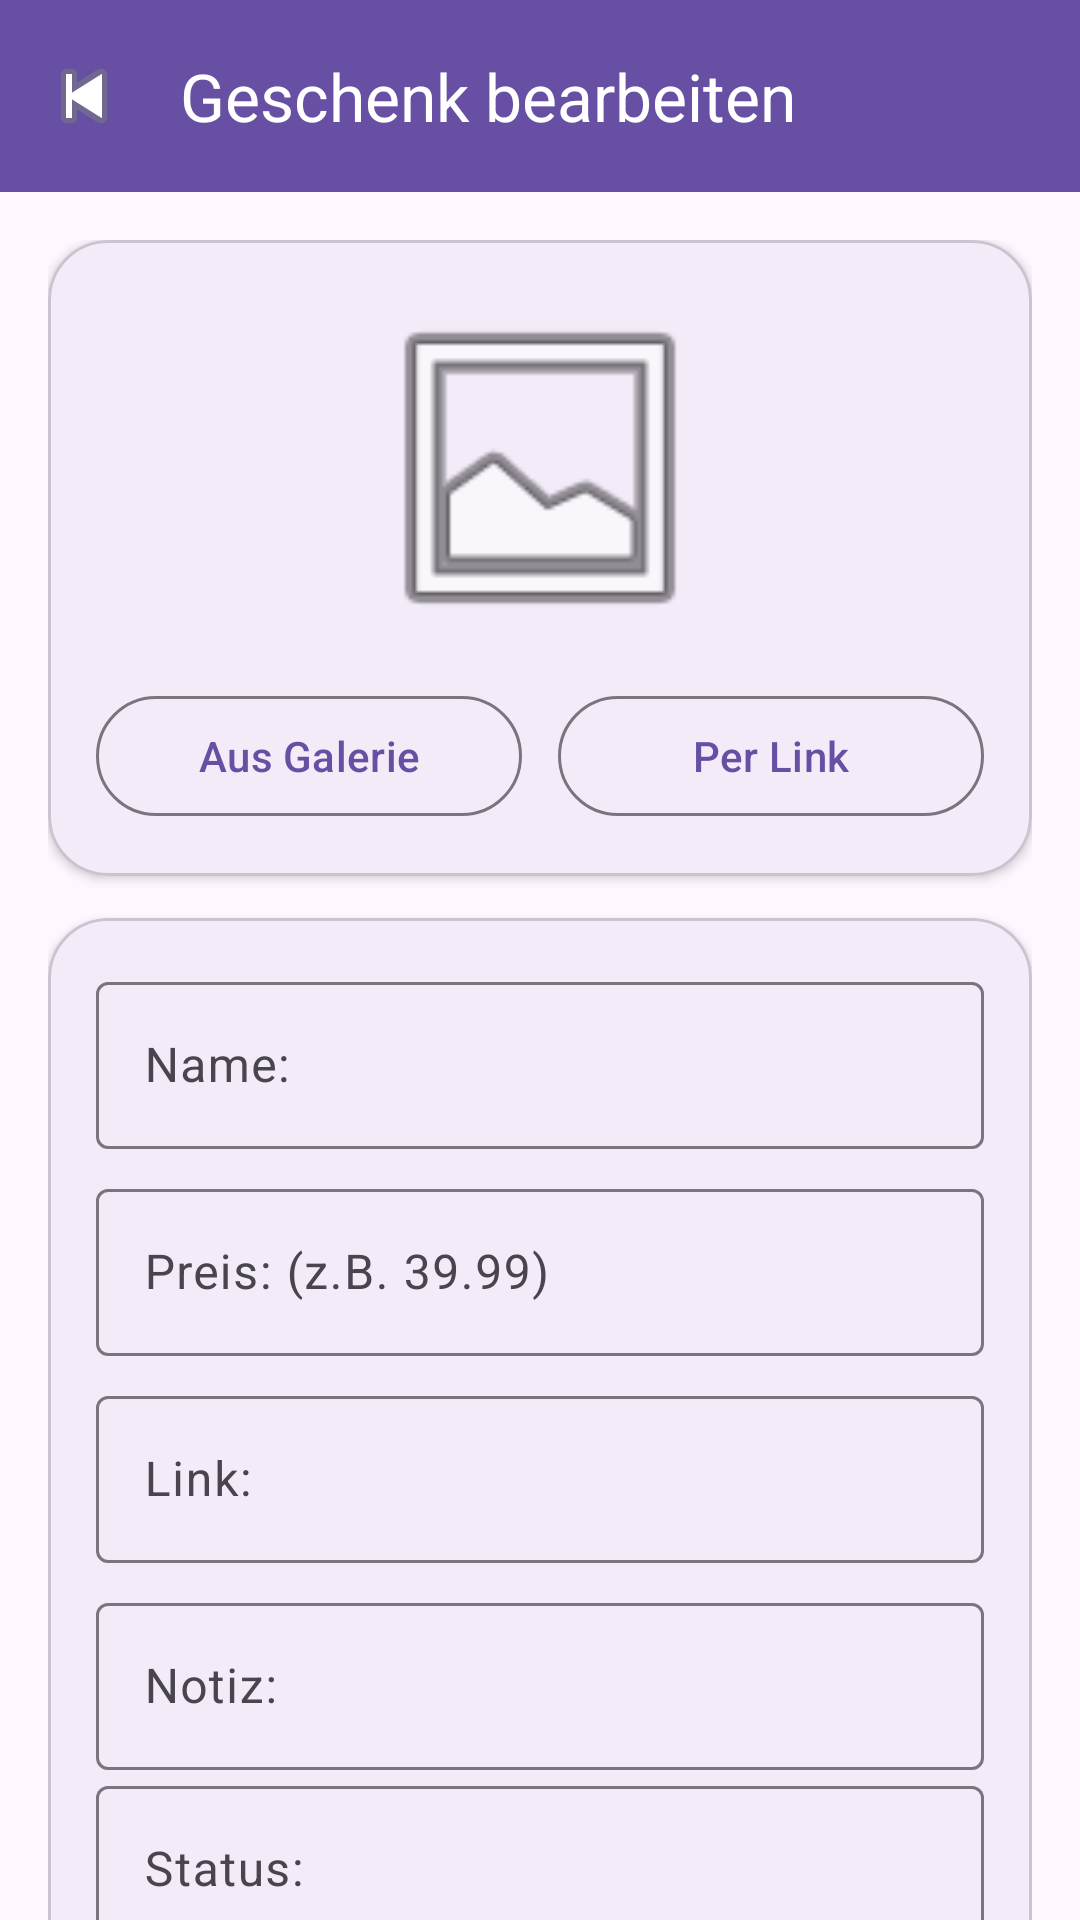

Point at icon controls on the screen. Image size 1080x1920, points as [x,y].
gallery: [540,468]
